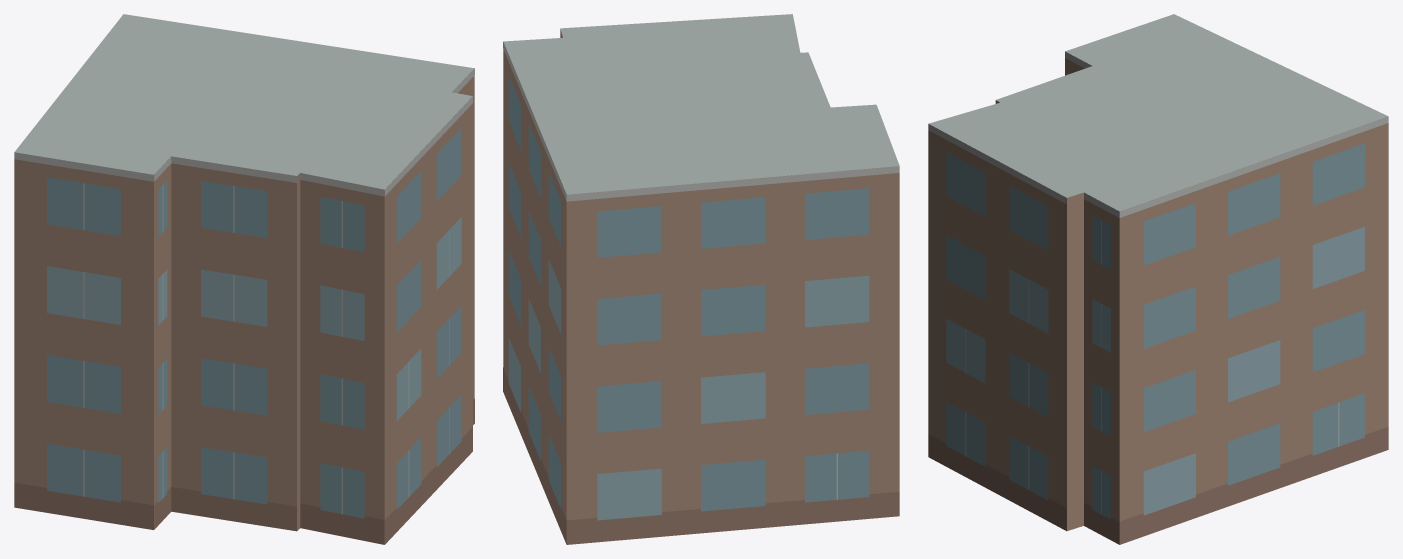
Rendered from survey-upis-32995817.glb.
3 views of the same model, side by side, from view 1: azimuth 30°, elevation 25°; view 2: azimuth 150°, elevation 25°; view 3: azimuth 270°, elevation 25° (orthographic). The views are drawn at different scales.
Visible parts, largest first — view 1: survey-upis-32995817.tmp; view 2: survey-upis-32995817.tmp; view 3: survey-upis-32995817.tmp.
Part boxes in pixels (x1,y1,x2,y2): survey-upis-32995817.tmp: [14, 14, 474, 544]; survey-upis-32995817.tmp: [503, 14, 899, 544]; survey-upis-32995817.tmp: [928, 14, 1388, 544].
Size of the model in its own units: 15.91 by 12.51 by 15.67.
